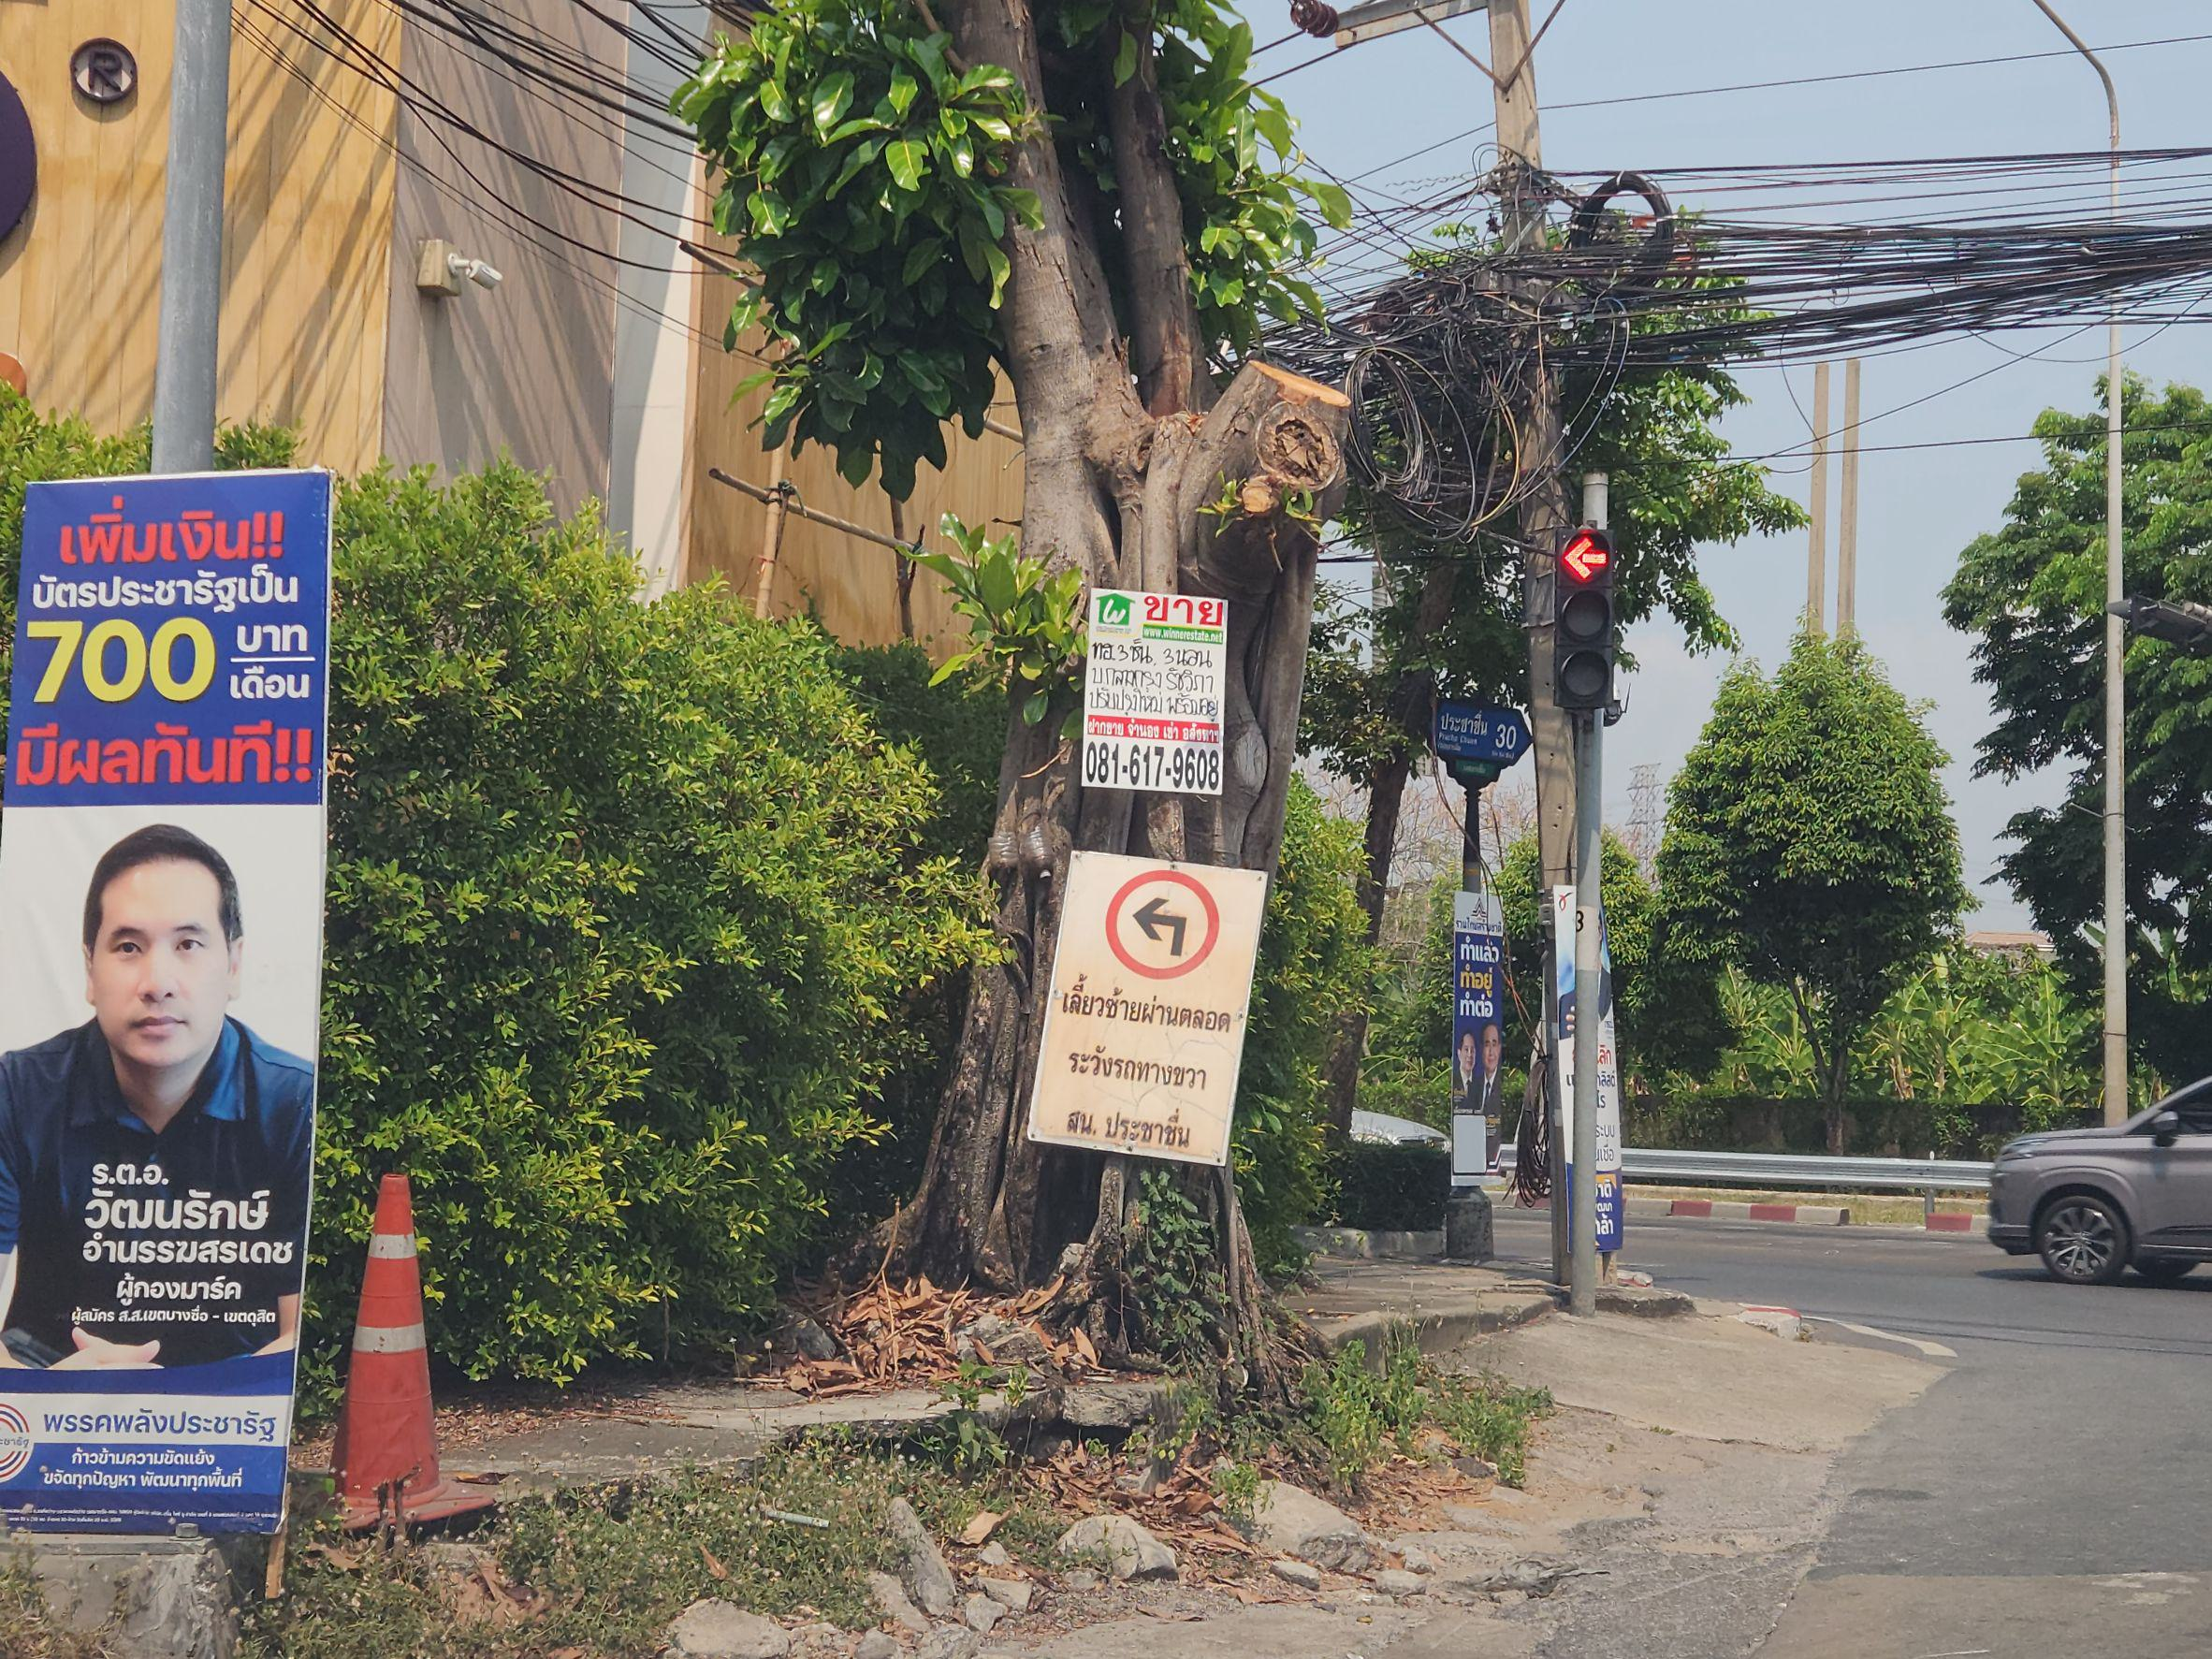Banner: (0, 451, 326, 1534)
